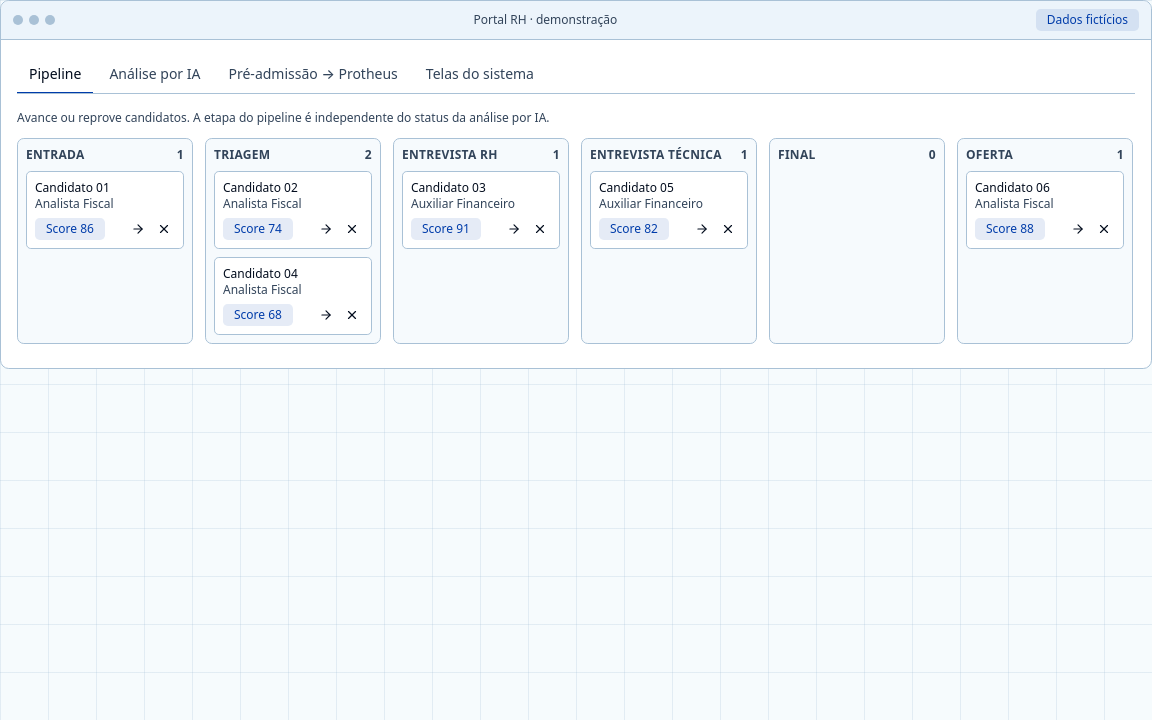
Test: <RhDemo /> › só permite enviar ao Protheus com ao menos um documento aprovado
Click the tab "Pré-admissão → Protheus".
click(313, 75)  # box [216,56,410,94]
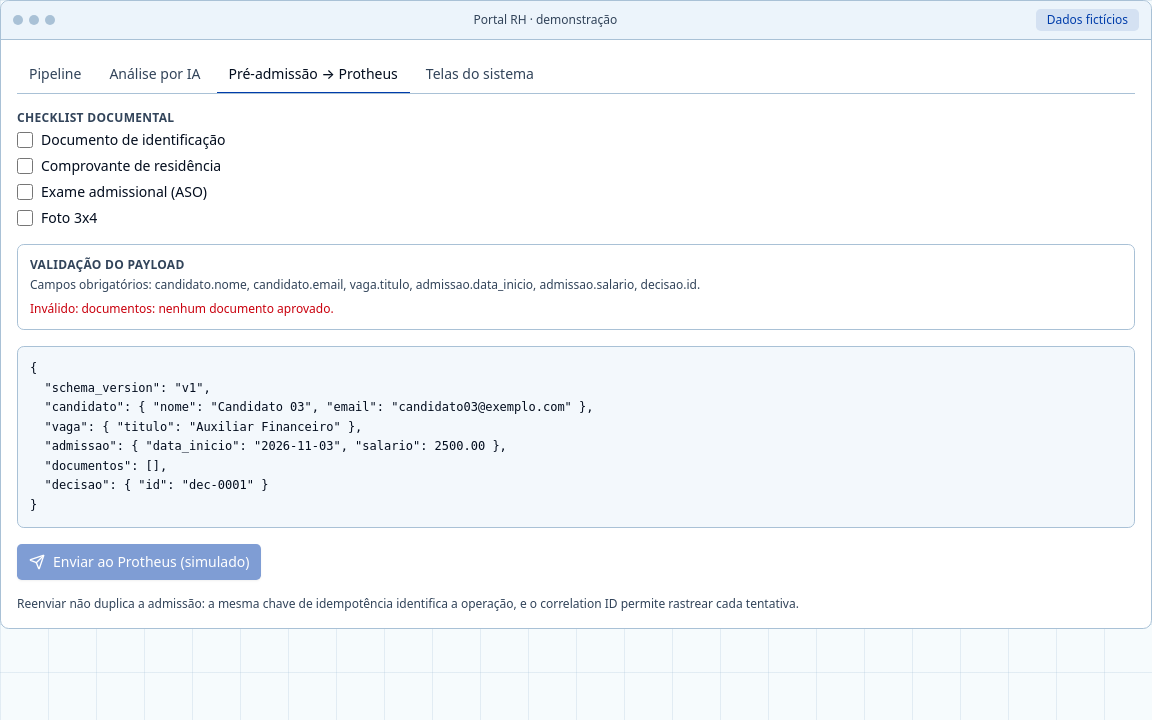
Expected: the button "Enviar ao Protheus (simulado)" is disabled, [17,544,262,580]
Click the checkbox labelled "Documento de identificação".
click(25, 140)  # box [17,132,33,148]
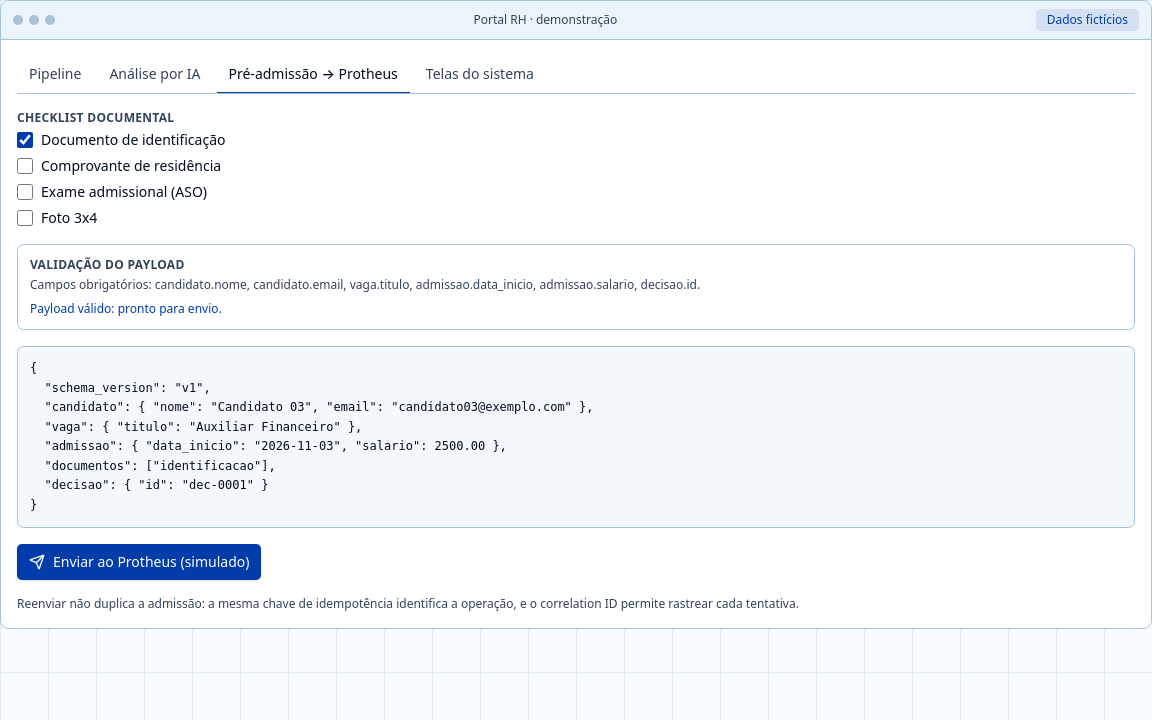
Expected: the button "Enviar ao Protheus (simulado)" is enabled
Click the button "Enviar ao Protheus (simulado)".
click(139, 562)  # box [17,544,262,580]
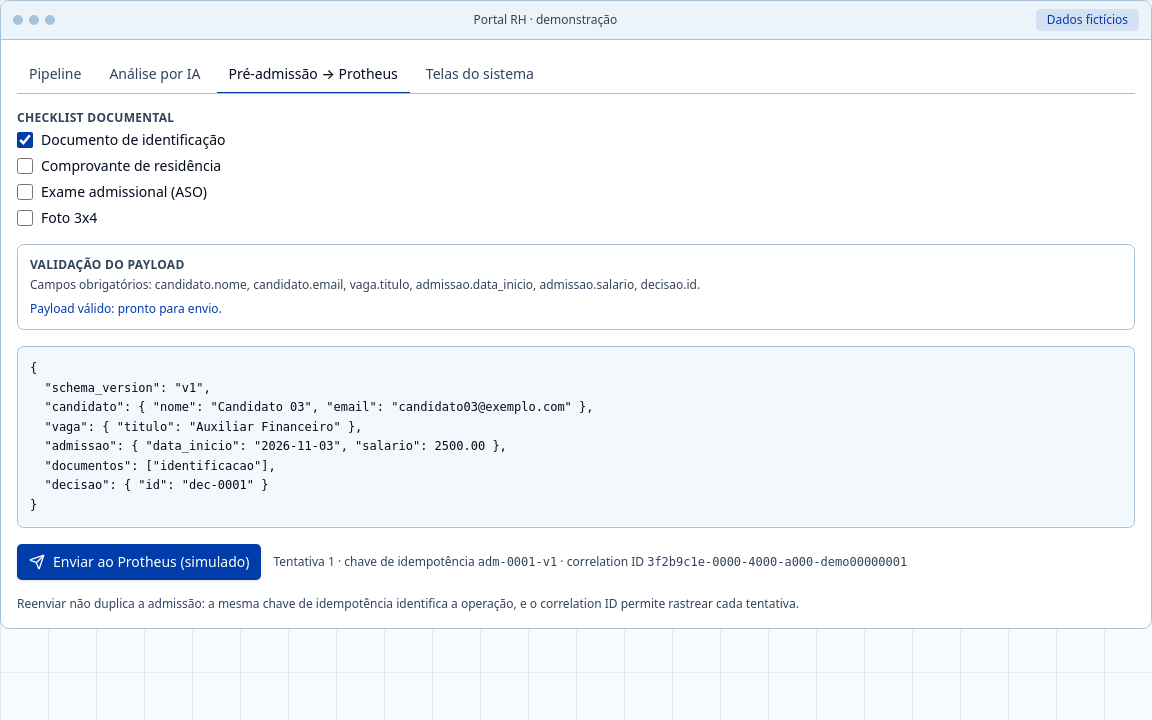
Expected: the text "Tentativa 1" is shown, [274,554,907,570]
